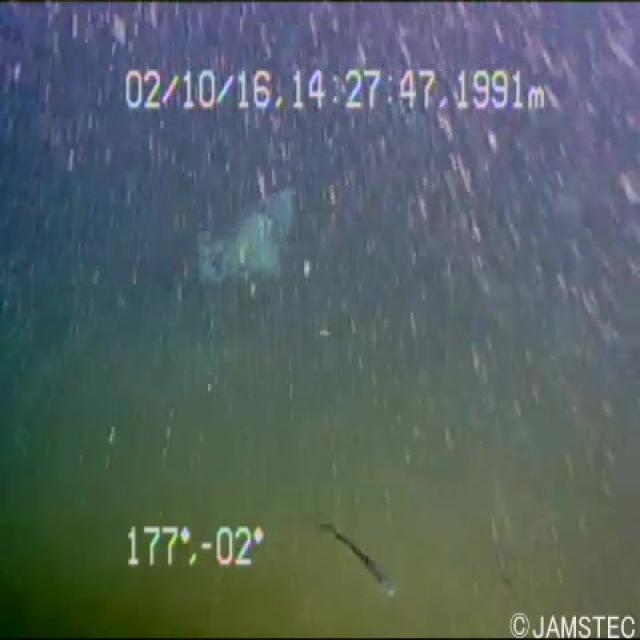plastic: (189, 169, 319, 313)
